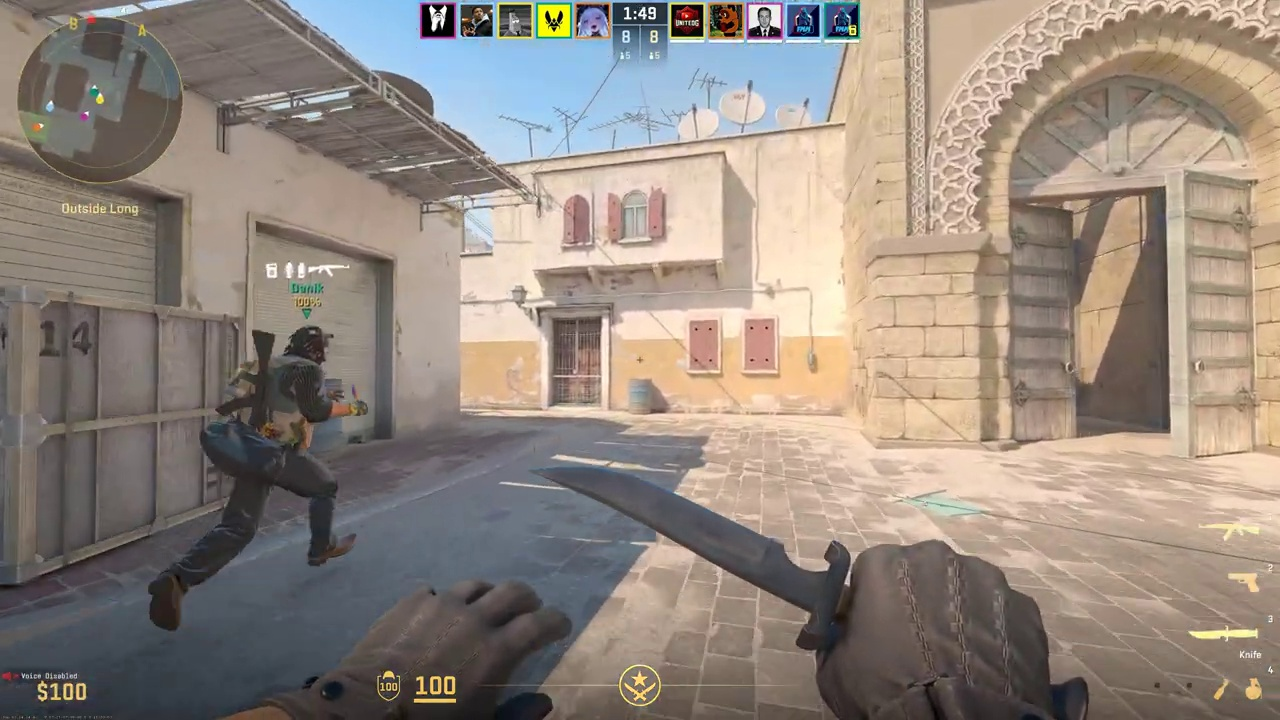Terrorist: (170, 324, 349, 634)
